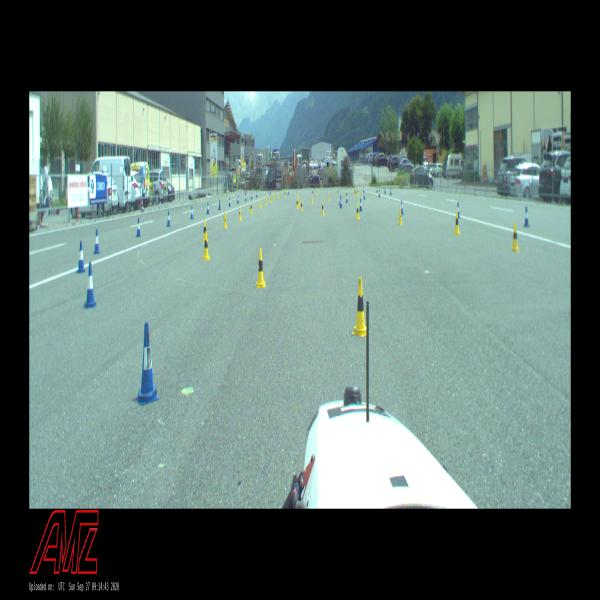blue_cone: (136, 324, 159, 406), (85, 263, 96, 307), (77, 241, 85, 272), (94, 229, 100, 254), (524, 207, 529, 227), (136, 218, 141, 237), (166, 211, 170, 226), (190, 206, 194, 219), (206, 202, 210, 214), (457, 202, 460, 218), (401, 200, 404, 215), (359, 198, 362, 212), (218, 200, 221, 210), (340, 196, 342, 209), (339, 195, 341, 205), (229, 197, 231, 207), (346, 193, 348, 203), (364, 190, 366, 200), (390, 187, 392, 196), (237, 196, 239, 204), (384, 186, 386, 194), (376, 186, 378, 192), (379, 189, 380, 198), (251, 192, 252, 200), (245, 194, 246, 202), (337, 188, 339, 192), (256, 191, 257, 198), (363, 186, 364, 193), (288, 189, 289, 194), (312, 188, 313, 193)
yellow_cone: (352, 277, 367, 337), (256, 248, 266, 288), (511, 222, 519, 251), (203, 232, 209, 260), (454, 212, 460, 235), (398, 207, 403, 224), (203, 220, 206, 242), (223, 212, 227, 228), (356, 204, 360, 219), (238, 206, 242, 221), (250, 201, 253, 214), (300, 200, 303, 212), (296, 198, 299, 209), (322, 202, 324, 215), (327, 193, 330, 201), (259, 199, 261, 209), (265, 196, 267, 206), (312, 194, 314, 204), (298, 196, 300, 206), (270, 194, 272, 203), (355, 189, 357, 196), (284, 190, 286, 197), (357, 188, 359, 195), (315, 188, 317, 194), (335, 188, 337, 194), (278, 191, 279, 198), (274, 193, 275, 200), (354, 188, 355, 194), (296, 190, 297, 195)
